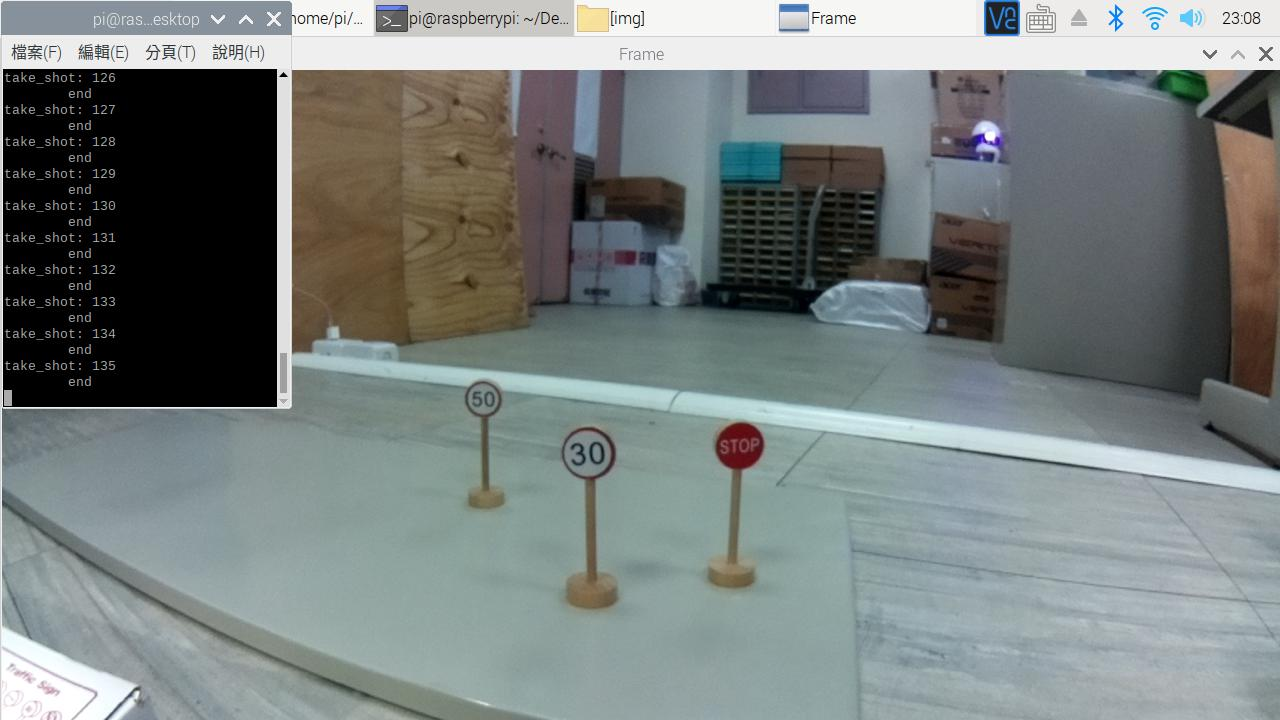Speed30: (556, 416, 620, 496)
Speed50: (459, 379, 508, 439)
Stop: (695, 418, 782, 499)
